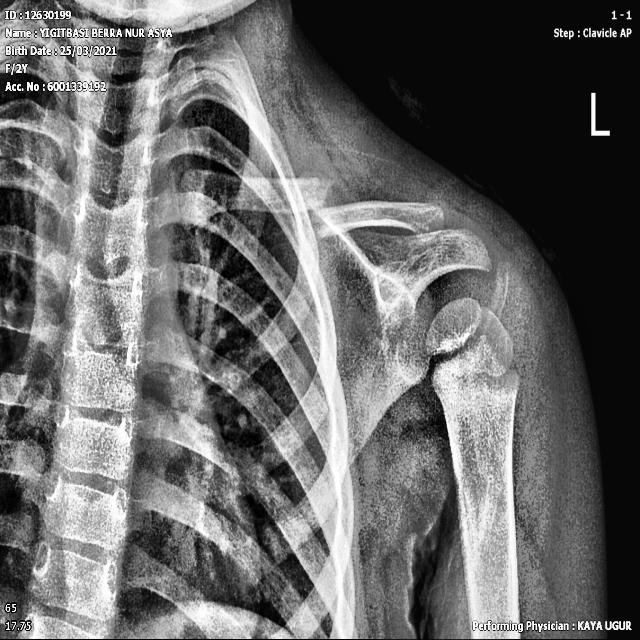Fracture: (292, 163, 345, 245)
